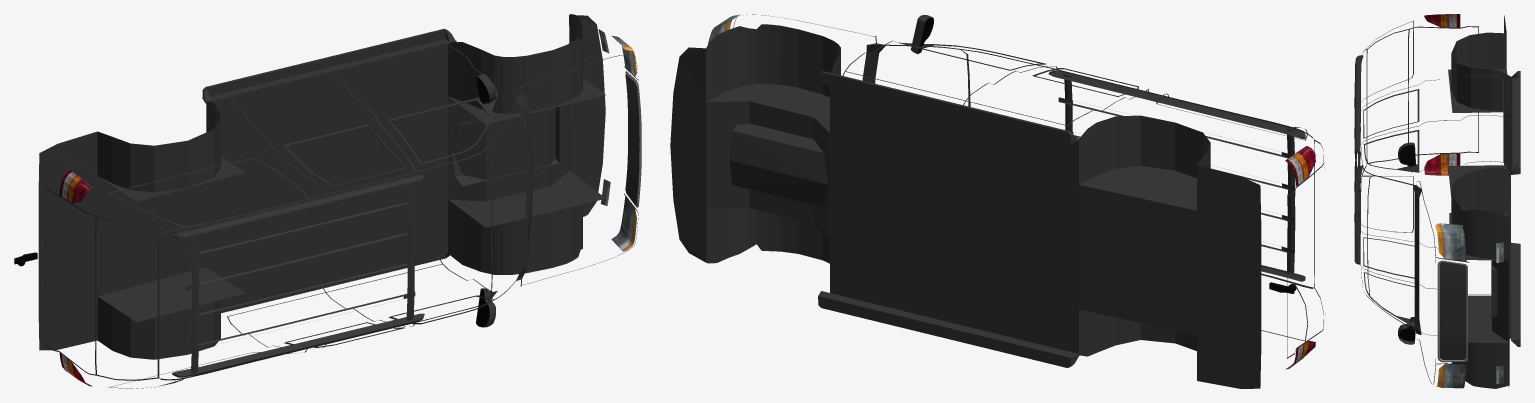
The model's file is details.obj.
3 views of the same model, side by side, from view 1: azimuth 30°, elevation 25°; view 2: azimuth 150°, elevation 25°; view 3: azimuth 270°, elevation 25° (orthographic). The views are drawn at different scales.
Parts seen in each view (by area): view 1: 7_-_Default, map, 10_-_Default; view 2: 7_-_Default, map; view 3: 7_-_Default, map, 9_-_Default, 10_-_Default.
Boxes of the visible parts, x1=… form: 7_-_Default: x1=38, y1=14, x2=639, y2=388; map: x1=59, y1=29, x2=636, y2=386; 10_-_Default: x1=14, y1=76, x2=489, y2=327; 7_-_Default: x1=670, y1=14, x2=1325, y2=388; map: x1=708, y1=14, x2=1315, y2=369; 7_-_Default: x1=1354, y1=15, x2=1520, y2=388; map: x1=1424, y1=14, x2=1503, y2=388; 9_-_Default: x1=1437, y1=260, x2=1467, y2=362; 10_-_Default: x1=1399, y1=145, x2=1415, y2=341.
Bounding box in the file's own units: 5.53 × 2.21 × 1.67.
4 materials, 1 textured.
